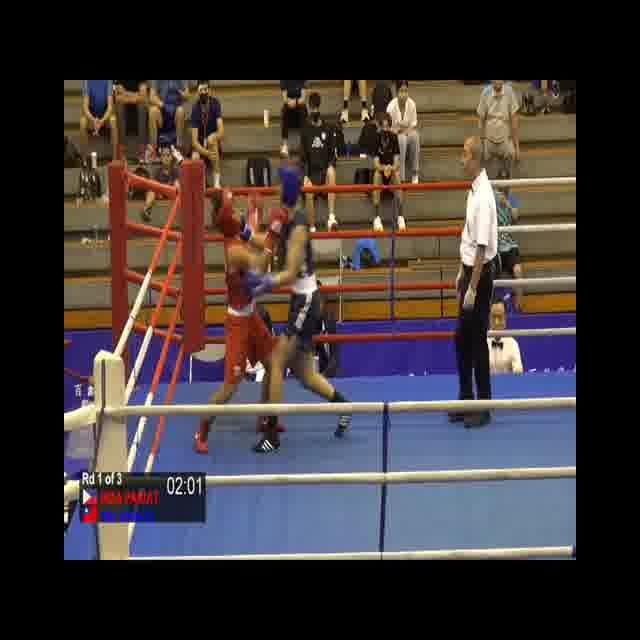blue-player: (234, 160, 353, 458)
red-player: (190, 185, 290, 458)
referee: (446, 133, 496, 432)
